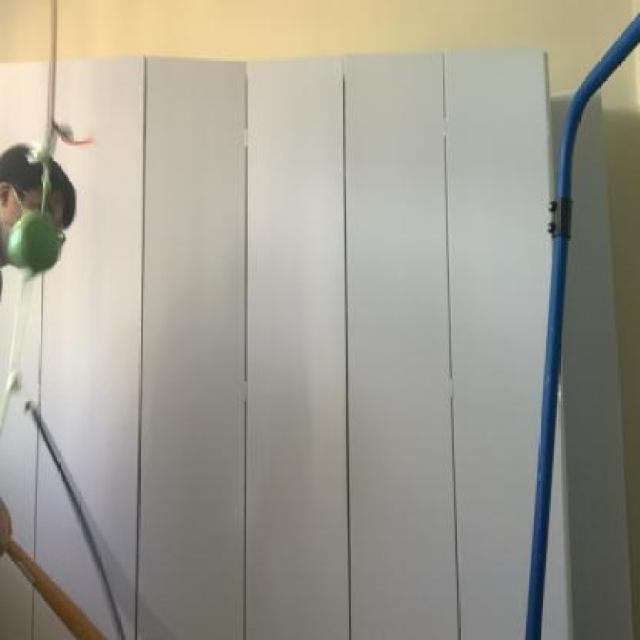baseball: (6, 202, 65, 276)
